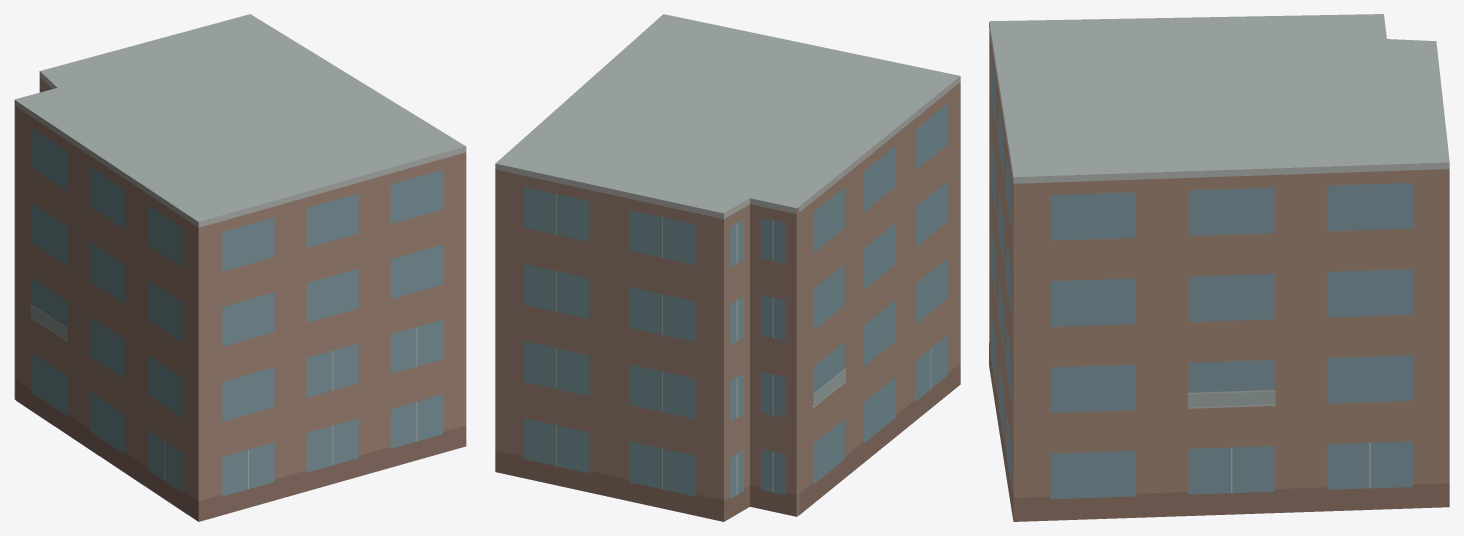
File: survey-upis-32994077.glb
3 views of the same model, side by side, from view 1: azimuth 30°, elevation 25°; view 2: azimuth 150°, elevation 25°; view 3: azimuth 270°, elevation 25° (orthographic). The views are drawn at different scales.
Visible parts, largest first — view 1: survey-upis-32994077.tmp; view 2: survey-upis-32994077.tmp; view 3: survey-upis-32994077.tmp.
Part boxes in pixels (x1,y1,x2,y2): survey-upis-32994077.tmp: (14, 14, 466, 521); survey-upis-32994077.tmp: (495, 14, 960, 521); survey-upis-32994077.tmp: (989, 14, 1449, 521).
Bounding box in the file's own units: 13.01 × 12.8 × 15.52.
